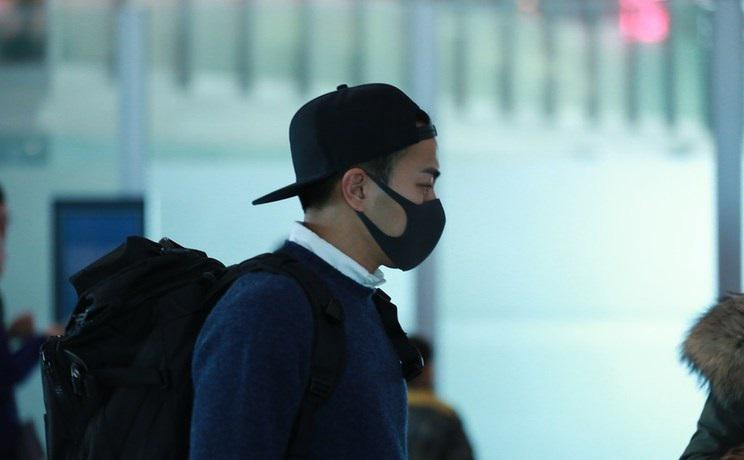OK: (341, 158, 450, 267)
